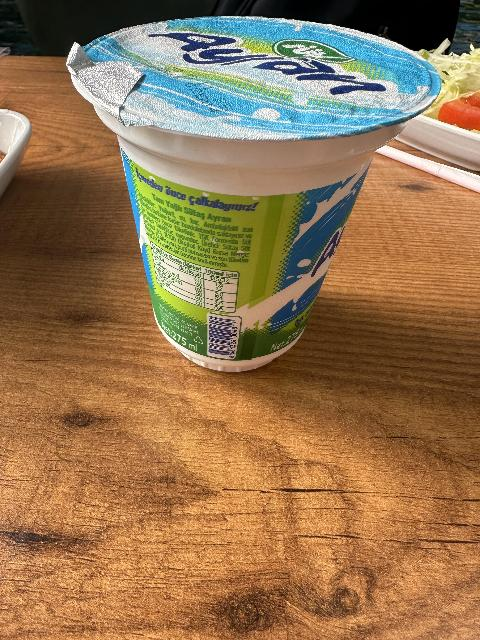Plastik: (65, 21, 444, 371)
